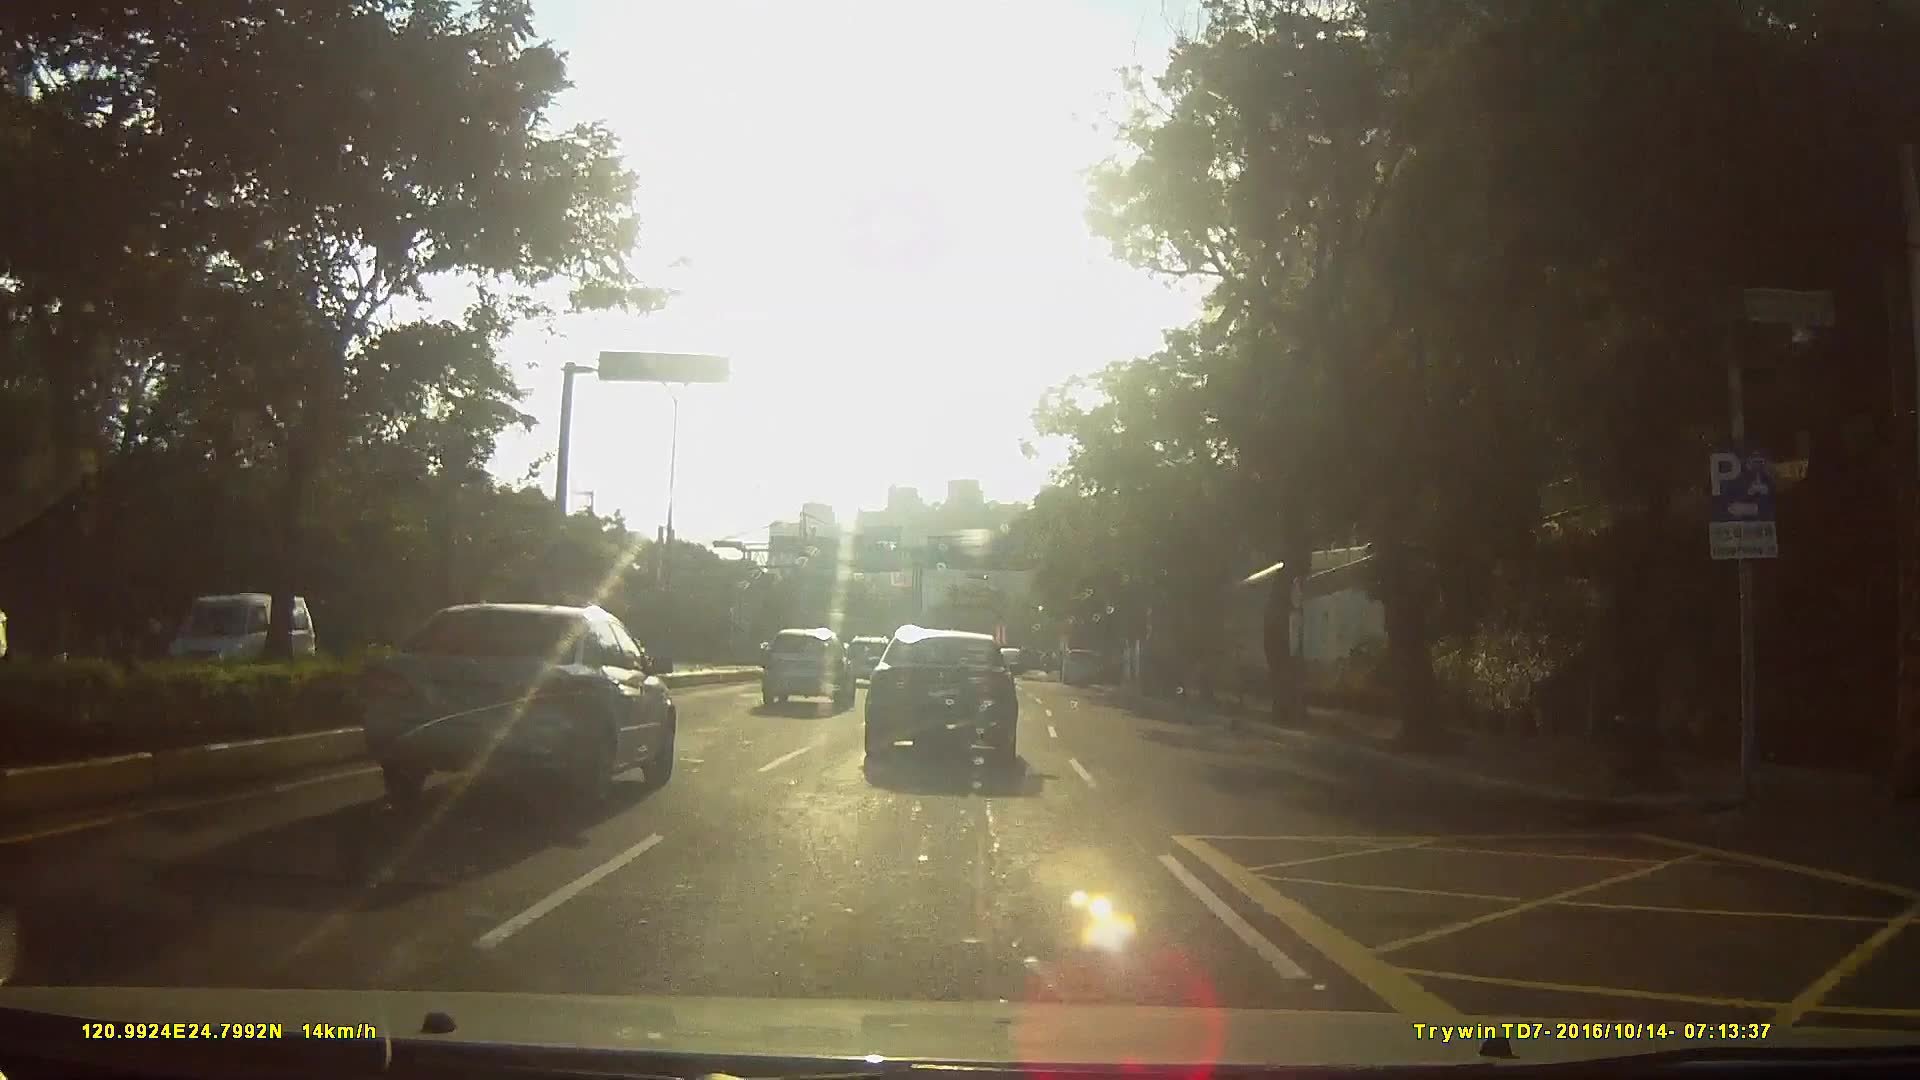vehicle: (367, 595, 676, 811), (865, 618, 1044, 766), (162, 593, 319, 703), (756, 625, 855, 712), (841, 629, 895, 684), (1060, 646, 1104, 686)
